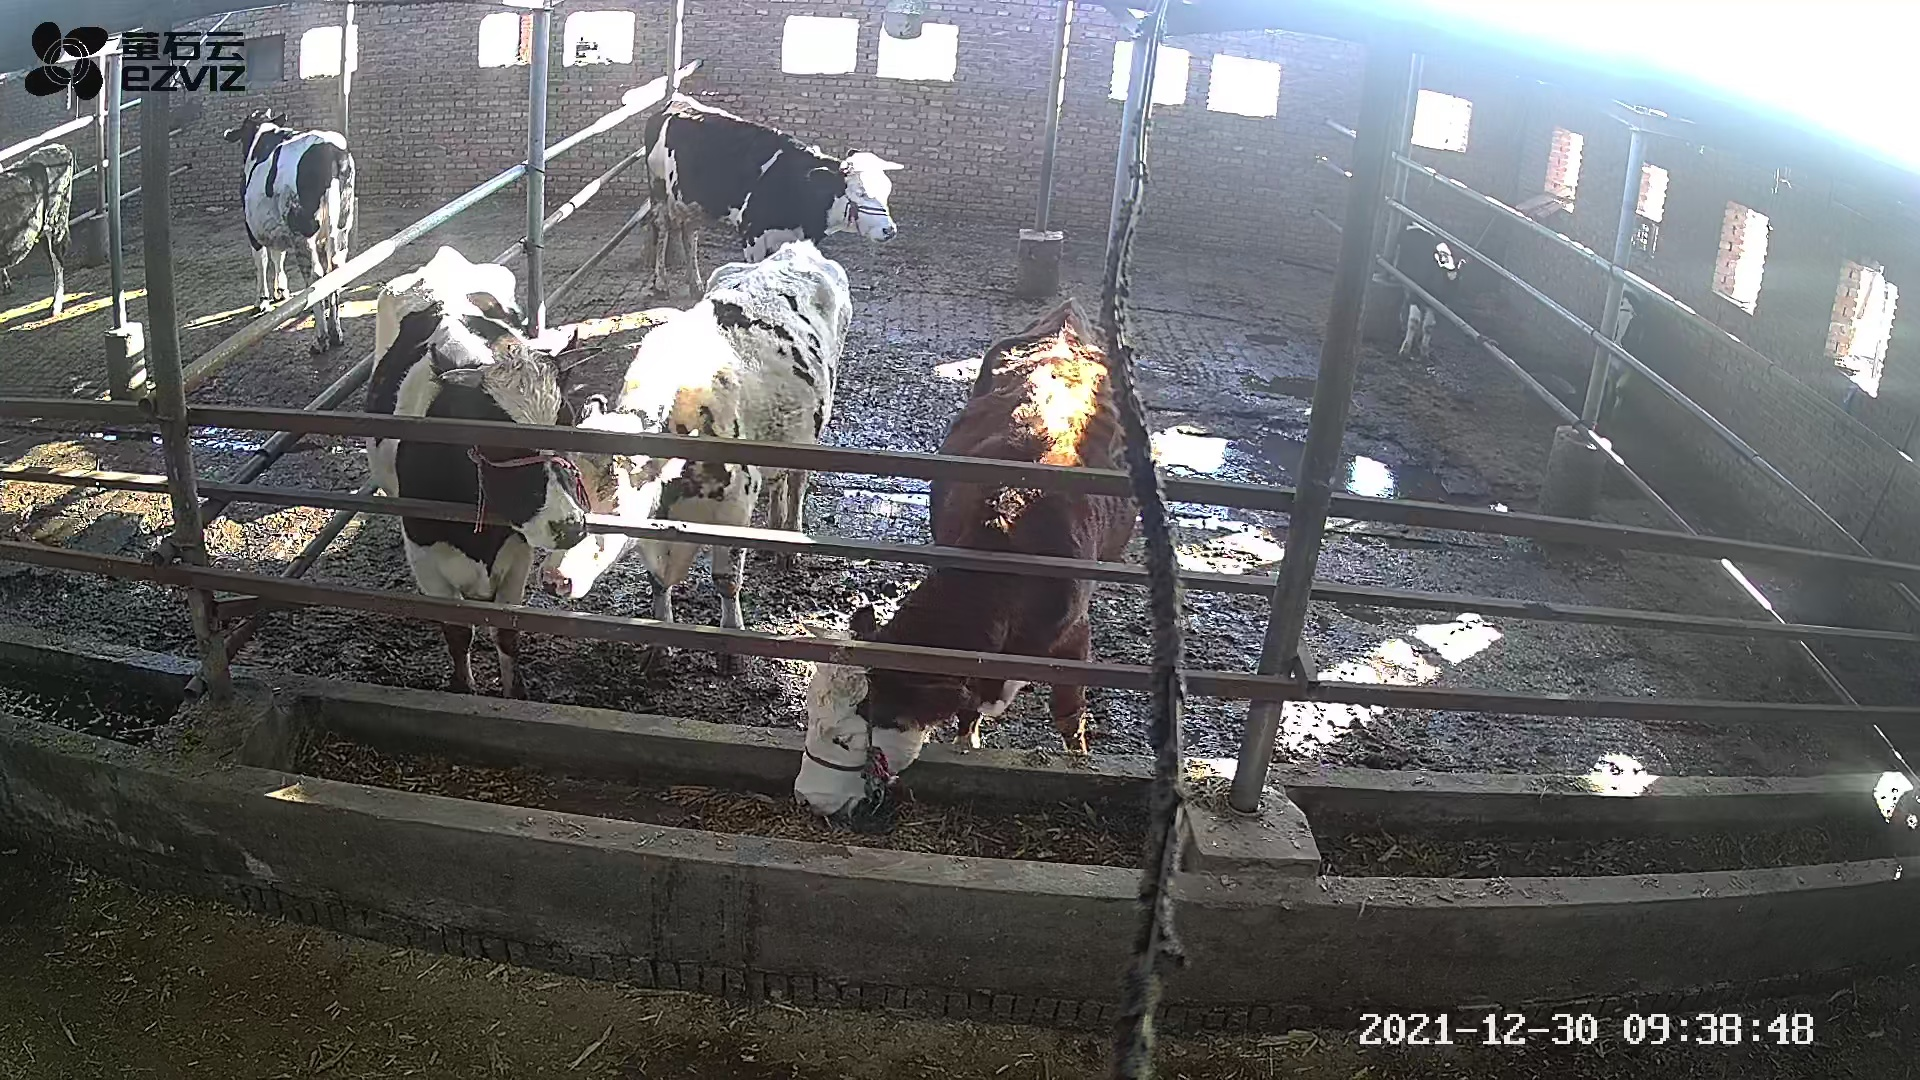cow: (793, 295, 1141, 820), (539, 236, 853, 680), (361, 243, 588, 698), (642, 88, 907, 303)
